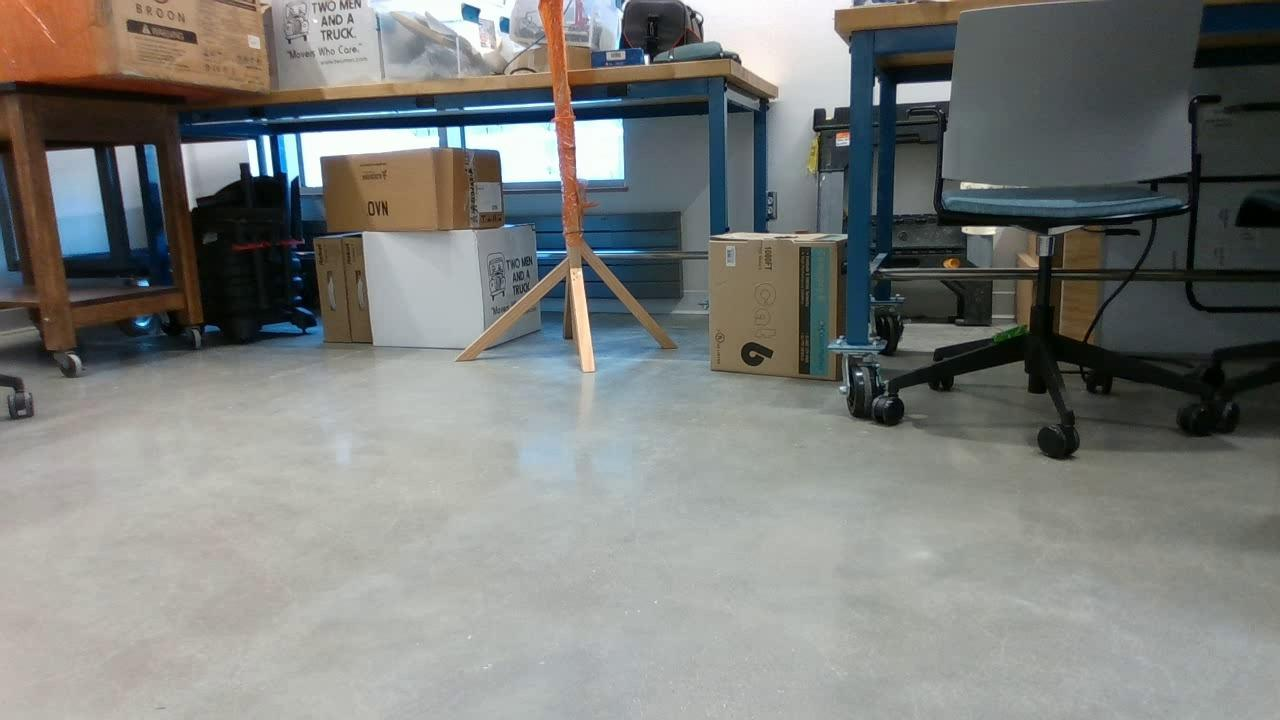grasshopper: (984, 323, 1040, 343)
